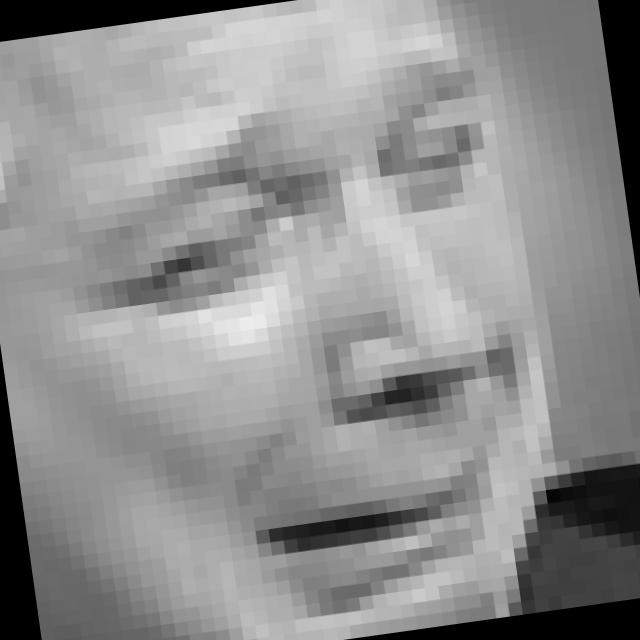sad: (72, 37, 551, 640)
